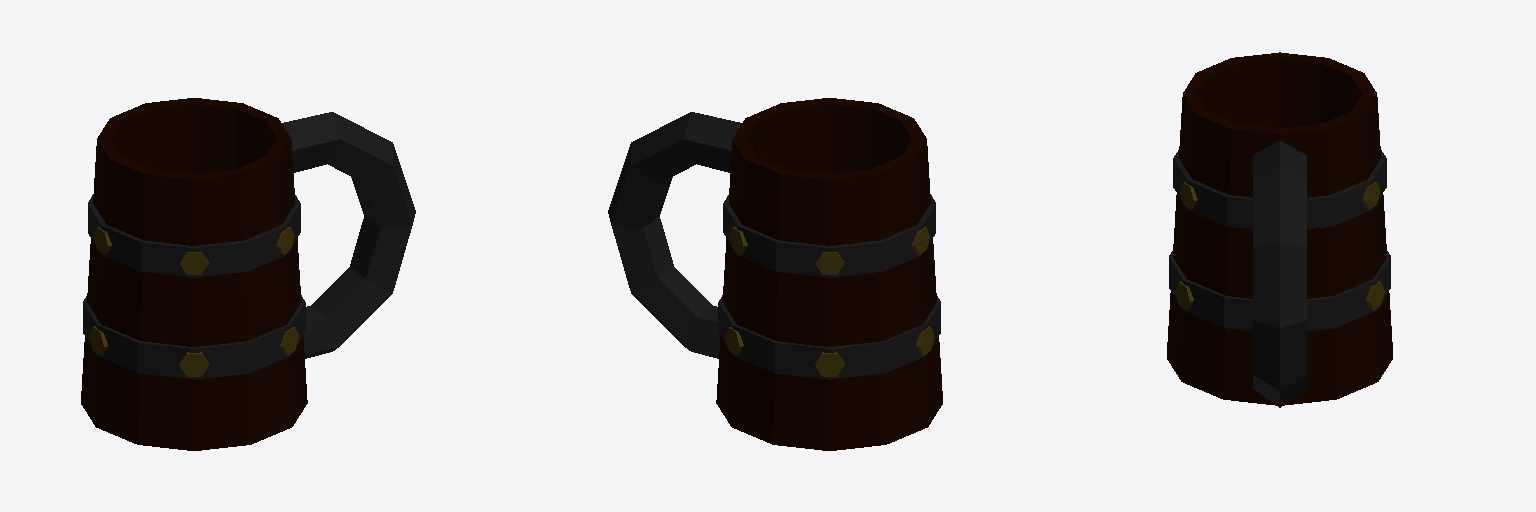
File: Cup_03.obj
The picture shows the model from 3 angles: view 1: azimuth 30°, elevation 25°; view 2: azimuth 150°, elevation 25°; view 3: azimuth 270°, elevation 25°; orthographic projection.
Parts seen in each view (by area): view 1: Cup_03_Cylinder; view 2: Cup_03_Cylinder; view 3: Cup_03_Cylinder.
Boxes of the visible parts, <box> form: Cup_03_Cylinder: <box>81,98,415,450</box>; Cup_03_Cylinder: <box>608,98,942,450</box>; Cup_03_Cylinder: <box>1167,52,1392,407</box>.
Bounding box in the file's own units: 0.3251 × 0.2567 × 0.1996.